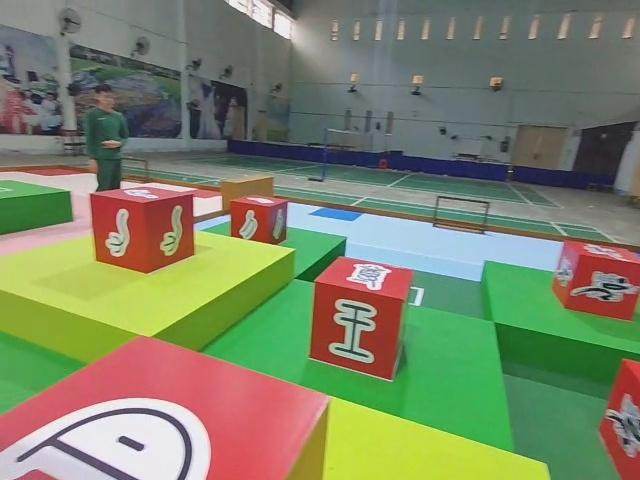R1: (550, 235, 640, 323), (597, 354, 640, 480)
R2 Fake: (308, 253, 417, 383)
R2 Real: (0, 332, 334, 480), (87, 184, 197, 274), (227, 194, 289, 248)
